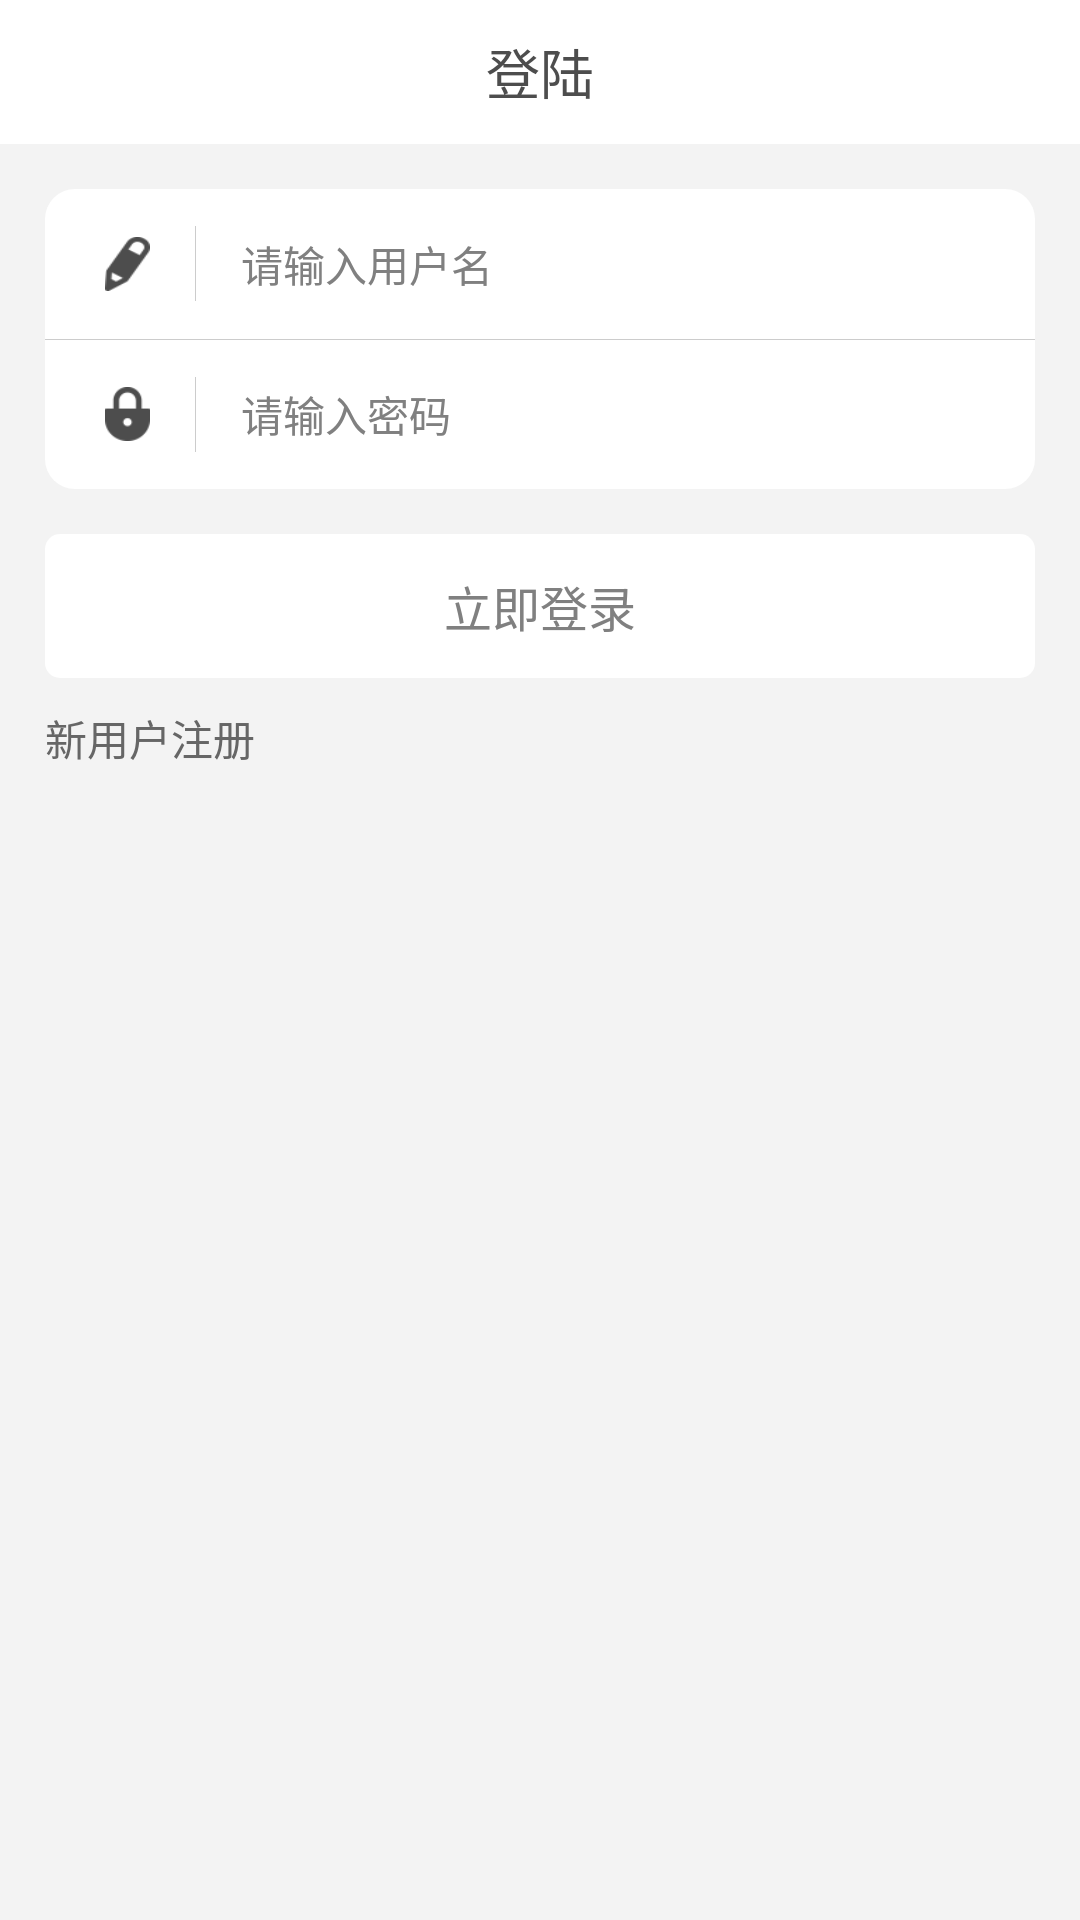

Icon bounding boxes for this 1080x1920 phone screenshot, format {"x1": x1, "y1": y1, "x2": x2, "y2": y2}:
password: {"x1": 105, "y1": 387, "x2": 150, "y2": 441}
